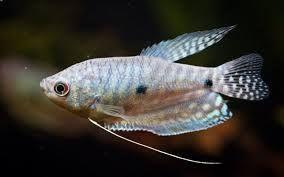Gourami: (41, 25, 271, 165)
